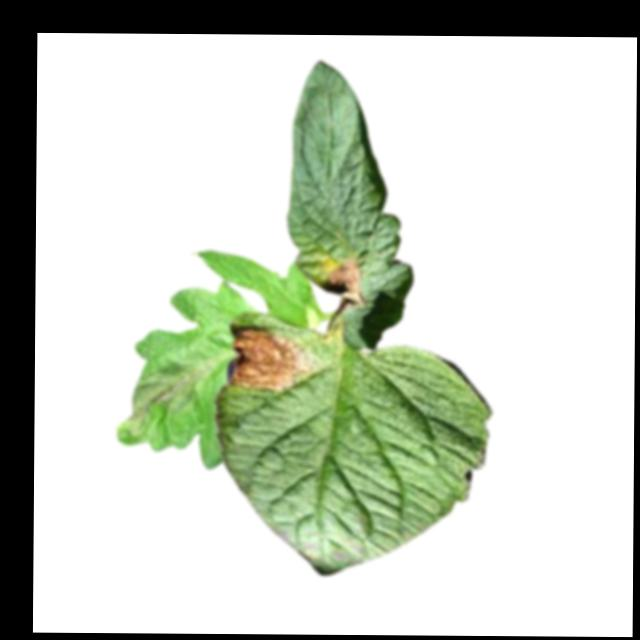Late_blight: (226, 324, 315, 393), (128, 357, 207, 434), (317, 258, 369, 307)
